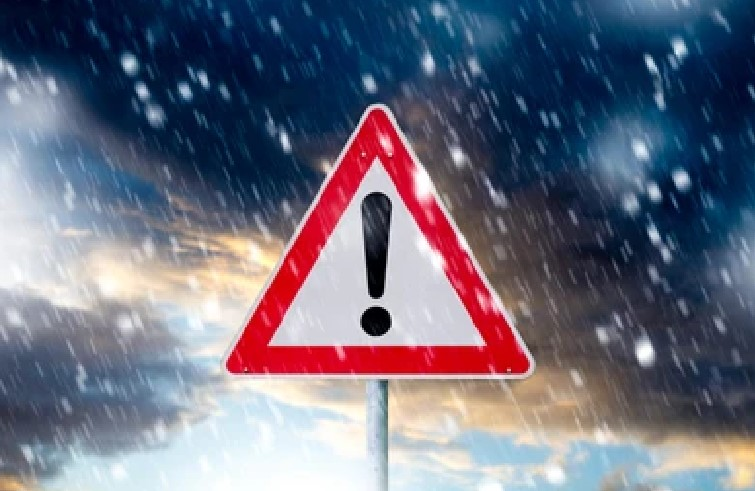Danger: (223, 98, 535, 388)
